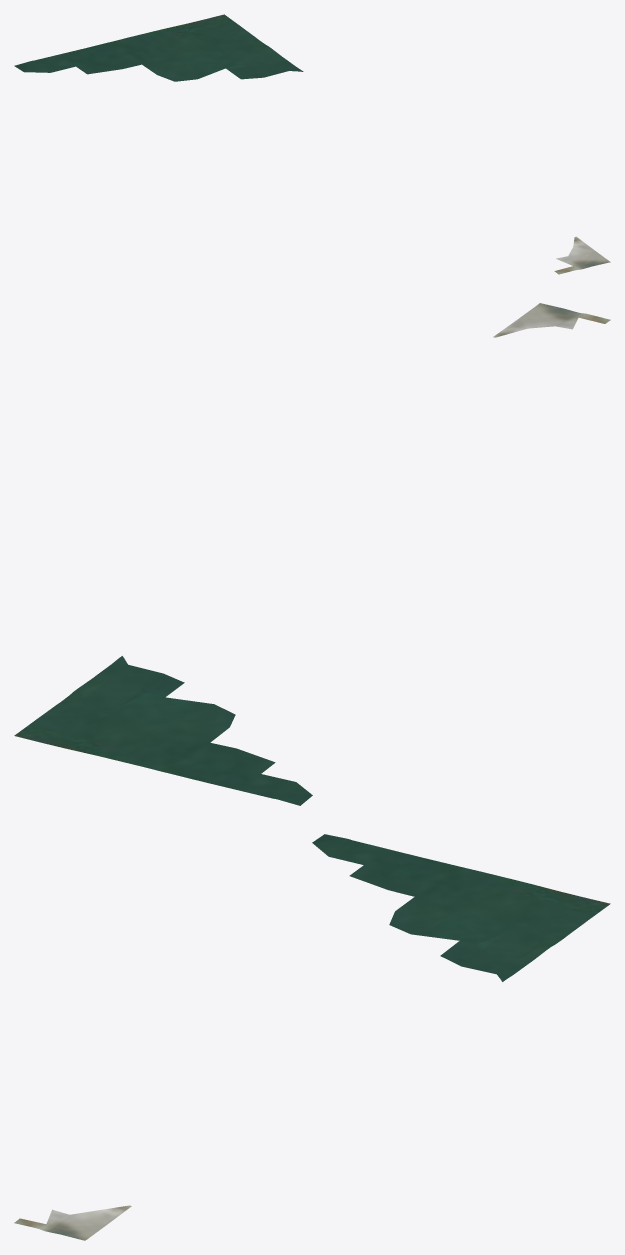
3 renders of one model, top to bottom at view 1: azimuth 30°, elevation 25°; view 2: azimuth 150°, elevation 25°; view 3: azimuth 330°, elevation 25°, orthographic. The views are drawn at different scales.
Bounding box in the file's own units: 32.83 × 5.54 × 104.
1 material, 1 textured.
